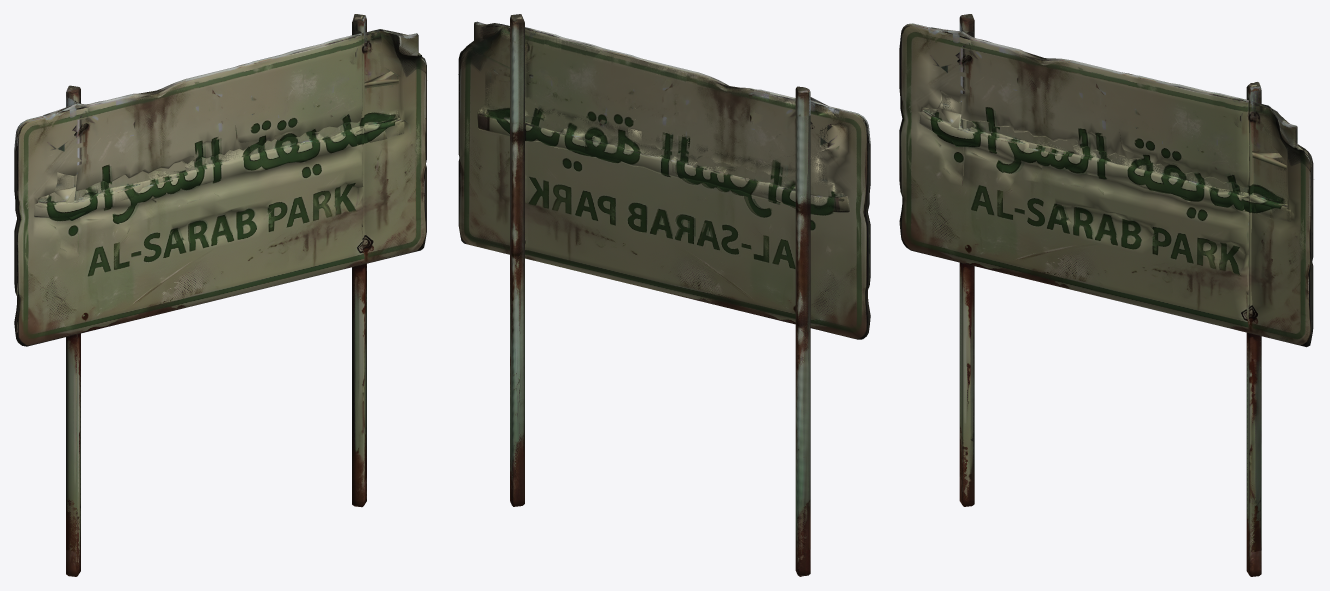
The model's file is Meshy_AI_Sign_of_al_sarab_park_0312120303_texture.fbx.
3 renders of one model, left to right at view 1: azimuth 30°, elevation 25°; view 2: azimuth 150°, elevation 25°; view 3: azimuth 330°, elevation 25°, orthographic.
Visible parts, largest first — view 1: Mesh_0; view 2: Mesh_0; view 3: Mesh_0.
Boxes of the visible parts, x1,y1,x2,y2 form: Mesh_0: (14,14,426,576); Mesh_0: (458,14,870,576); Mesh_0: (899,14,1313,576).
Size of the model in its own units: 169 by 191 by 10.18.
Materials: 1 (1 with a texture image).
